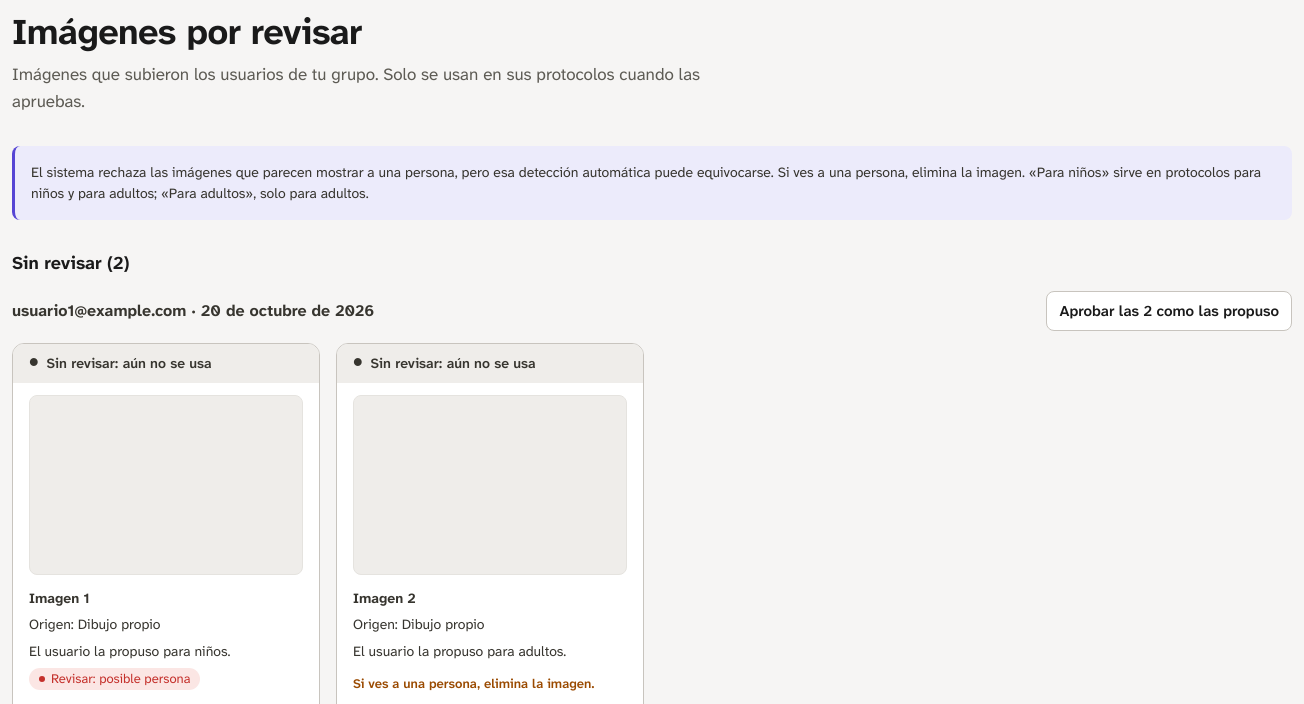
Test: imágenes por revisar › aprueba todo un lote como lo propuso el usuario
Click the button "Aprobar las 2 como las propuso" at (1169, 312), box [1046, 292, 1292, 332]
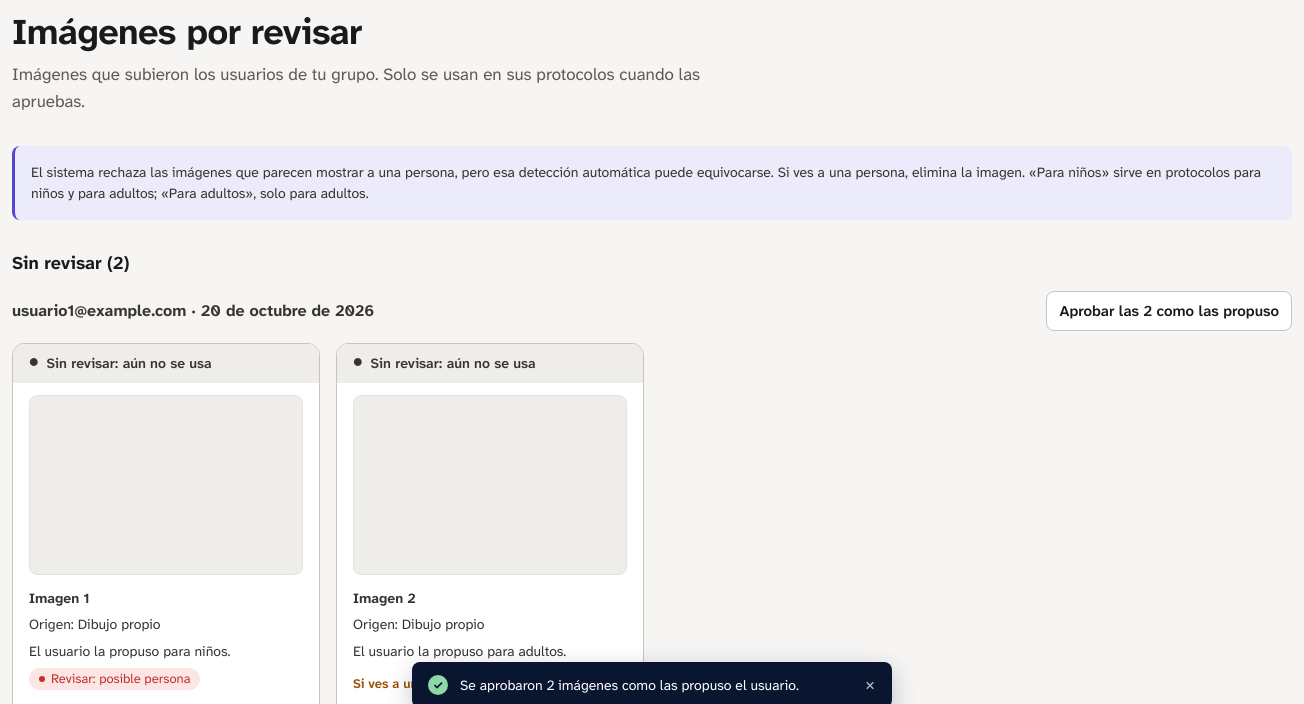
Check: the text "Se aprobaron 2 imágenes como las propuso el usuario." is shown, box [460, 674, 844, 696]
